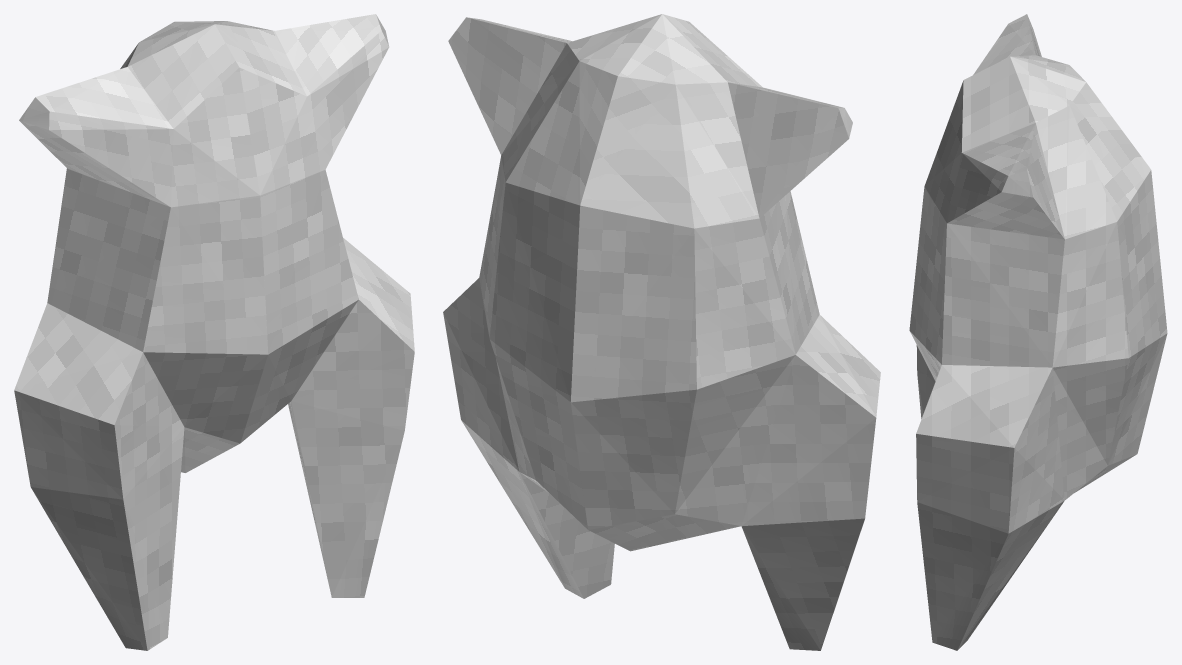
File: Bird.glb
The picture shows the model from 3 angles, left to right: view 1: azimuth 30°, elevation 25°; view 2: azimuth 150°, elevation 25°; view 3: azimuth 270°, elevation 25°; orthographic projection. The views are drawn at different scales.
Visible parts, largest first — view 1: Bird; view 2: Bird; view 3: Bird.
Part boxes in pixels (x1,y1,x2,y2): Bird: (14, 14, 414, 650); Bird: (443, 14, 880, 650); Bird: (909, 14, 1167, 650).
Bounding box in the file's own units: 0.4861 × 0.6735 × 0.2913.
Materials: 1 (1 with a texture image).
